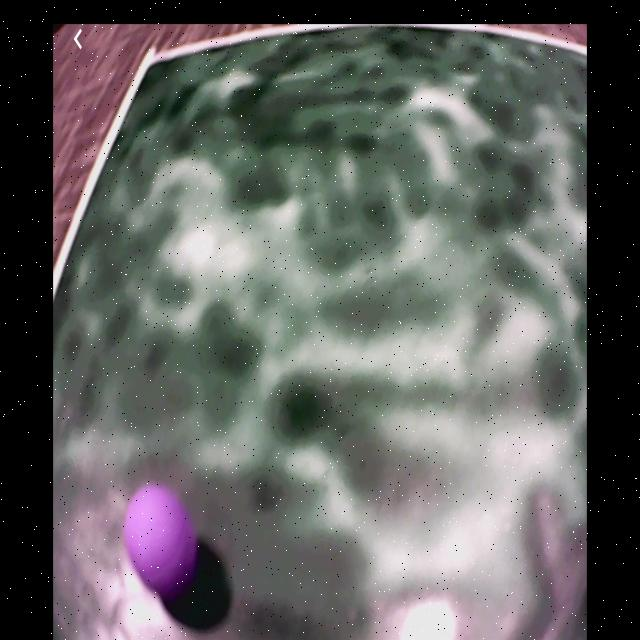ball: (125, 487, 194, 593)
